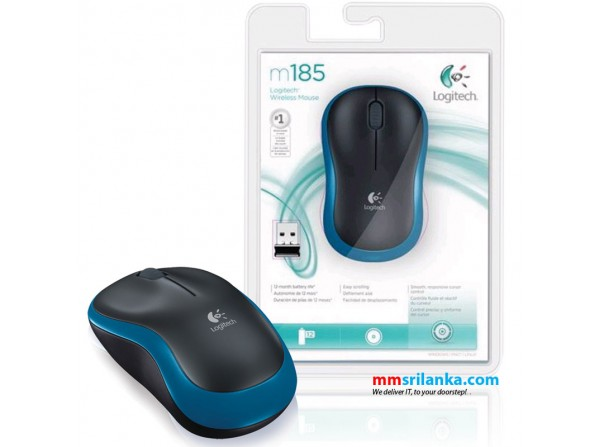logitech-mouse-m185: (88, 267, 296, 439), (321, 83, 434, 257)
